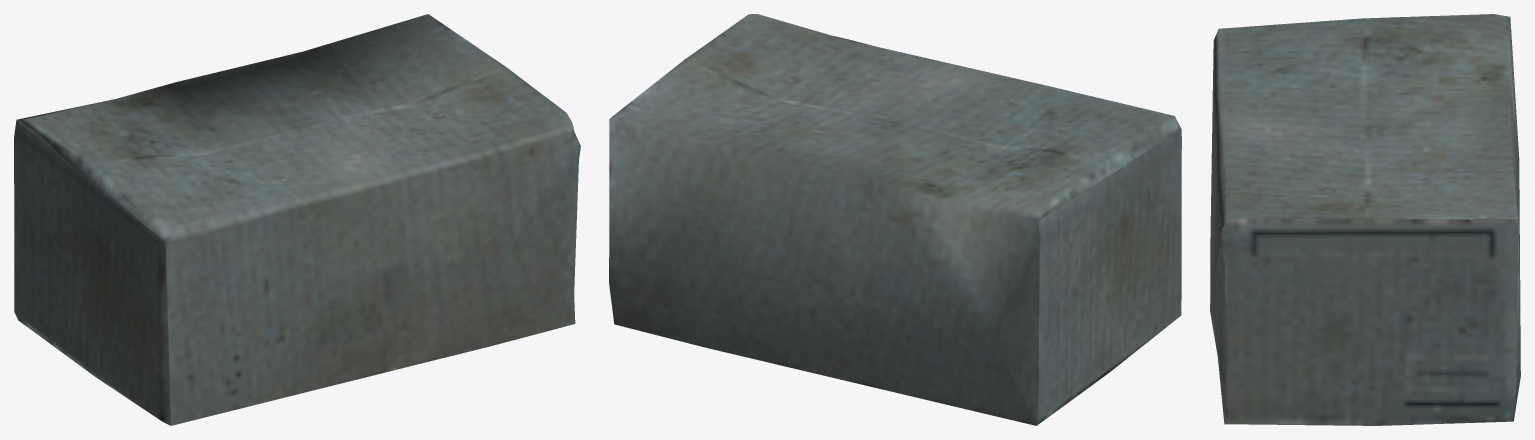
File: 058_cardboard07a.fbx
3 views of the same model, side by side, from view 1: azimuth 30°, elevation 25°; view 2: azimuth 150°, elevation 25°; view 3: azimuth 270°, elevation 25° (orthographic). The views are drawn at different scales.
Parts seen in each view (by area): view 1: LOD_1_Group_0_Sub_1__sm36_058_Cardboard07A_A_Mat; view 2: LOD_1_Group_0_Sub_1__sm36_058_Cardboard07A_A_Mat; view 3: LOD_1_Group_0_Sub_1__sm36_058_Cardboard07A_A_Mat.
Boxes of the visible parts, x1,y1,x2,y2 form: LOD_1_Group_0_Sub_1__sm36_058_Cardboard07A_A_Mat: (14, 14, 580, 425); LOD_1_Group_0_Sub_1__sm36_058_Cardboard07A_A_Mat: (609, 14, 1181, 425); LOD_1_Group_0_Sub_1__sm36_058_Cardboard07A_A_Mat: (1210, 14, 1520, 425).
Bounding box in the file's own units: 1.2 × 0.5653 × 0.7545.
